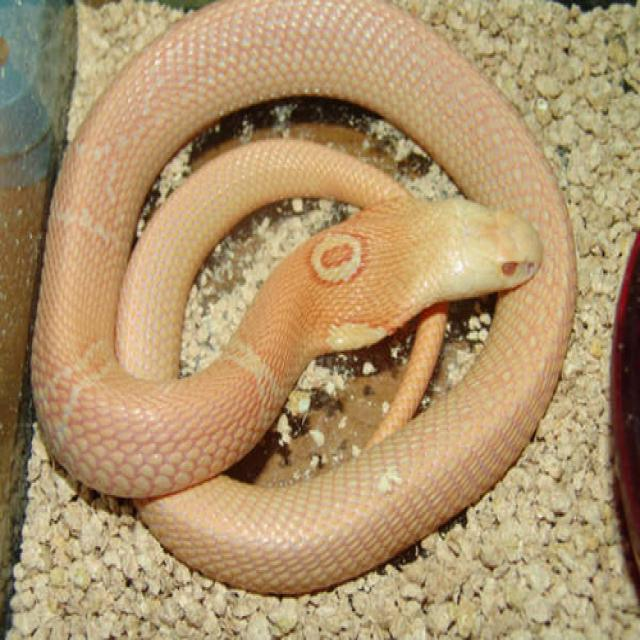Snake: (28, 0, 578, 597)
